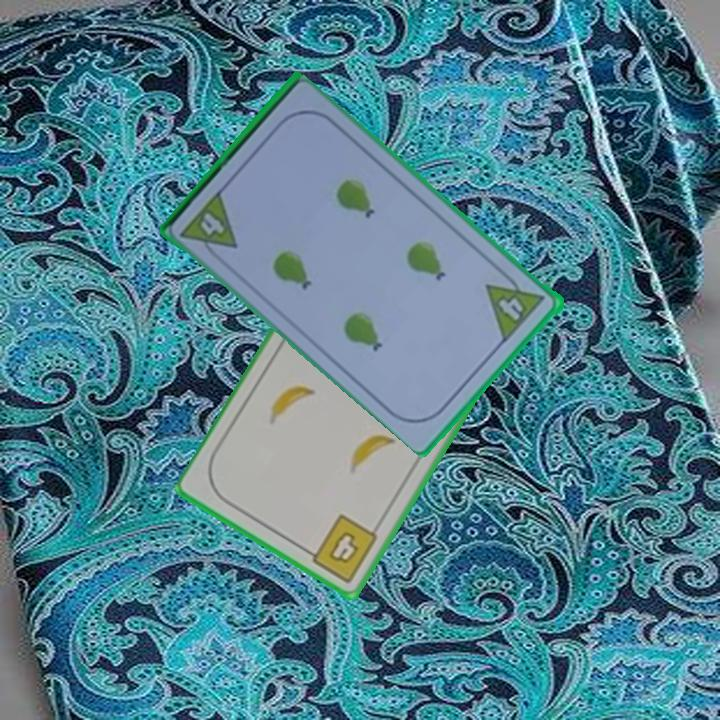4b: (300, 511, 381, 586)
4p: (482, 266, 549, 344), (177, 187, 242, 267)
